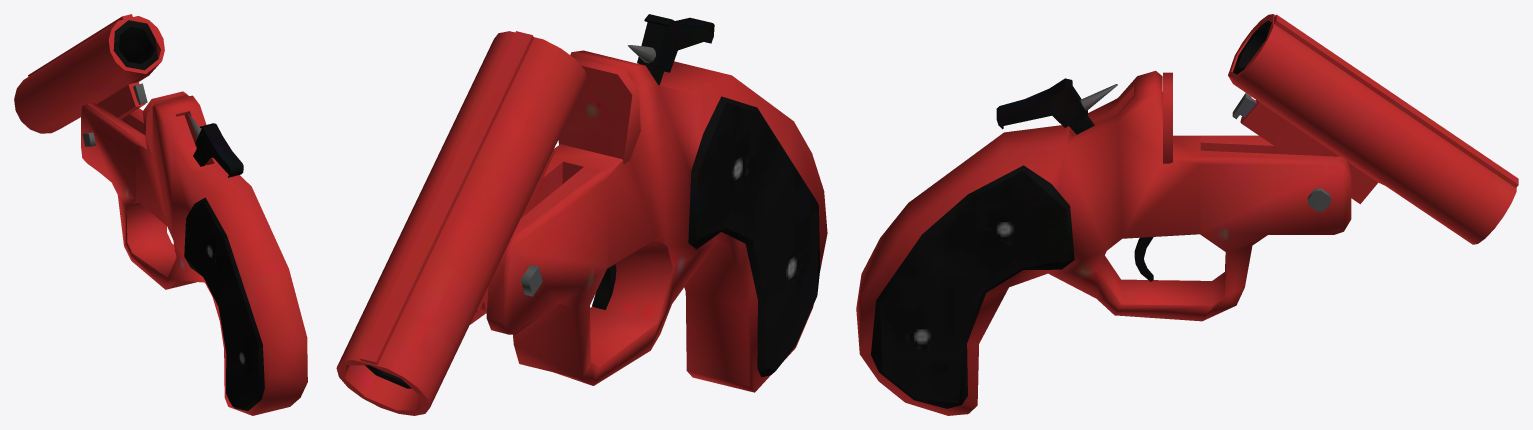
File: 017_Flare_Gun_cc0_card.glb
3 renders of one model, left to right at view 1: azimuth 30°, elevation 25°; view 2: azimuth 150°, elevation 25°; view 3: azimuth 270°, elevation 25°, orthographic. The views are drawn at different scales.
Visible parts, largest first — view 1: Body, Barrel, Hammer; view 2: Body, Barrel, Hammer, Trigger; view 3: Body, Barrel, Hammer.
Part boxes in pixels (x1,y1,x2,y2): Body: [81, 91, 307, 415]; Barrel: [14, 14, 164, 146]; Hammer: [188, 113, 243, 177]; Body: [470, 50, 827, 392]; Barrel: [336, 31, 587, 415]; Hammer: [627, 14, 714, 85]; Trigger: [592, 264, 616, 309]; Body: [856, 70, 1351, 415]; Barrel: [1228, 14, 1518, 244]; Hammer: [996, 78, 1117, 134].
Size of the model in its own units: 0.0327 by 0.1765 by 0.274.
Materials: 1 (1 with a texture image).
